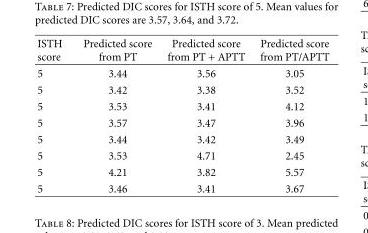table: (36, 37, 328, 194)
table column: (158, 37, 251, 194), (71, 37, 158, 194), (251, 37, 328, 194), (36, 37, 71, 194)
table column header: (36, 37, 328, 64)
table row: (36, 37, 328, 64), (36, 64, 328, 81), (36, 97, 328, 114), (36, 130, 328, 147), (36, 163, 328, 180), (36, 81, 328, 97), (36, 114, 328, 130), (36, 147, 328, 163), (36, 180, 328, 194)
